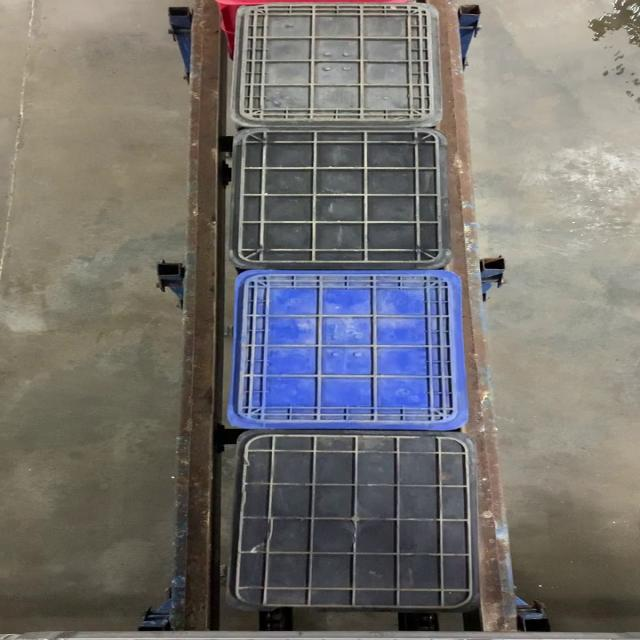Box: (228, 431, 478, 609), (226, 271, 465, 429), (232, 130, 450, 270), (235, 3, 442, 129)
